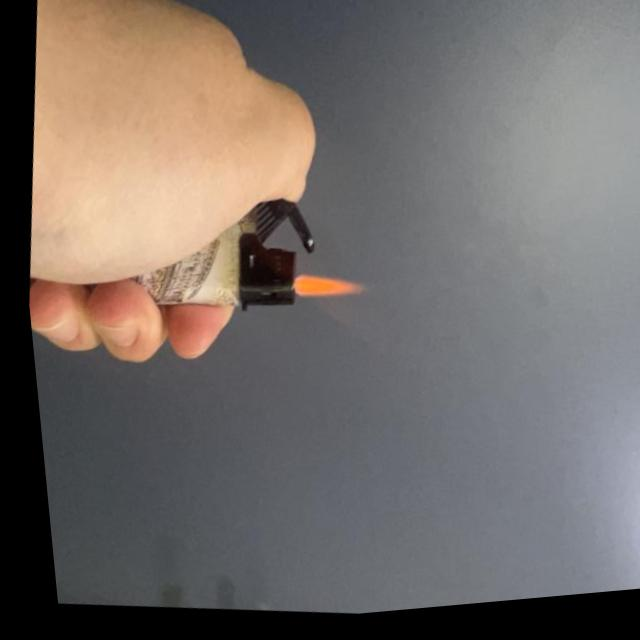Fire: (284, 269, 366, 315)
